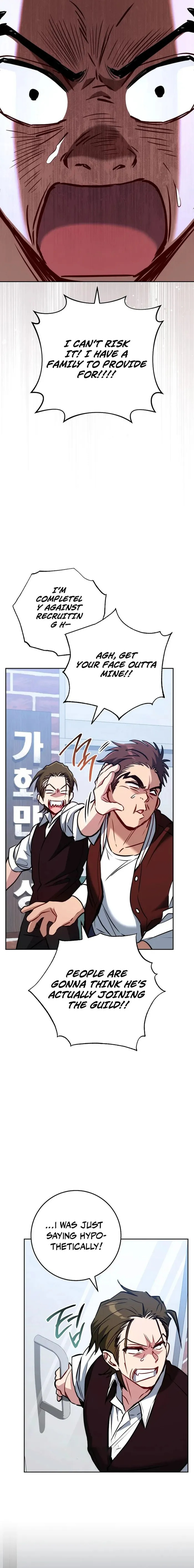bubbles: (24, 284, 171, 427), (27, 919, 168, 1054), (60, 604, 173, 728), (29, 1187, 126, 1293), (8, 562, 110, 662)
